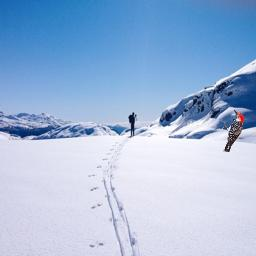Woodpecker: (221, 109, 244, 152)
